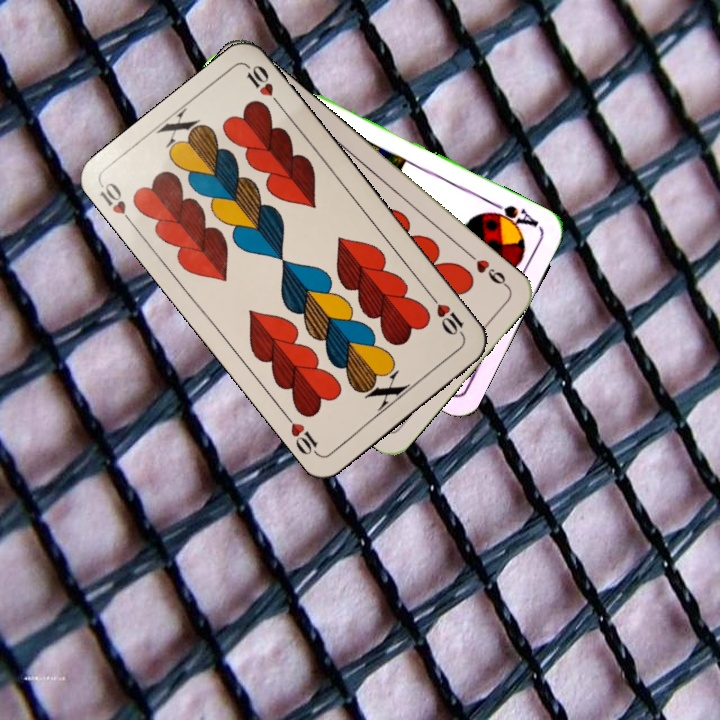H10: (95, 178, 139, 231), (425, 290, 467, 340)
H9: (462, 247, 511, 291)
SA: (482, 197, 542, 233)
